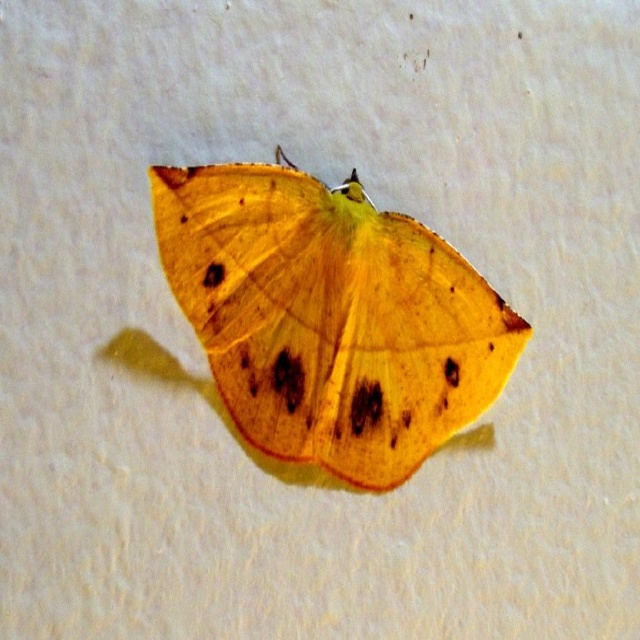Butterfly: (132, 110, 550, 508)
